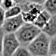cell: (7, 20, 19, 31), (33, 41, 45, 51), (43, 21, 53, 32), (22, 29, 34, 38), (7, 39, 16, 50), (10, 6, 21, 15), (45, 1, 56, 9), (17, 49, 28, 56)
